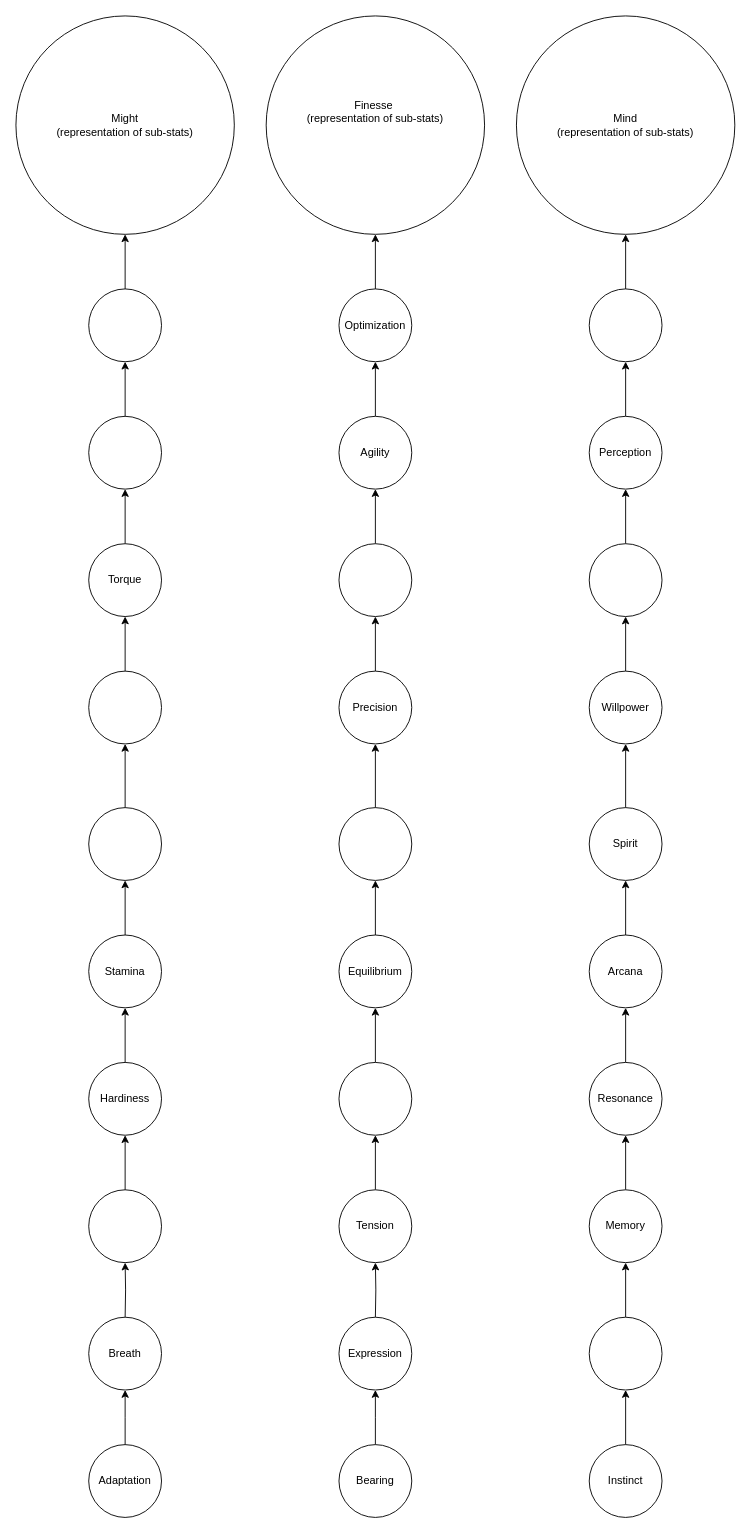
This 751x1533 diagram has some shape labels left out. Here are the shapes that lost their labels. From the top down, the centre of each, then its label:
the point at 125,325: Vigor
the point at 625,325: Analysis
the point at 125,452: Brawn
the point at 375,580: Coordination
the point at 625,580: Focus
the point at 125,707: Fortitude
the point at 125,843: Density
the point at 375,843: Reflexes
the point at 375,1098: Rhythm
the point at 125,1226: Vitality
the point at 625,1353: Presence
